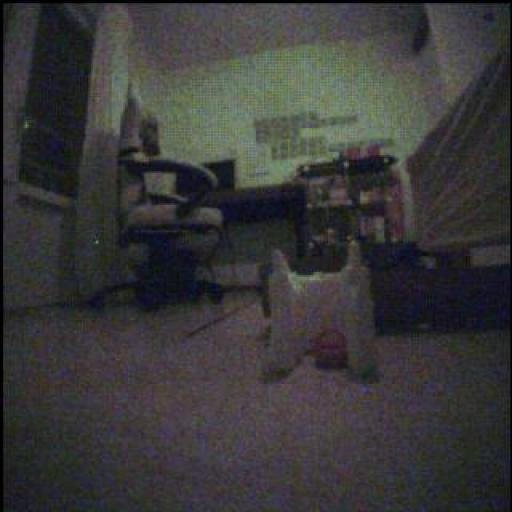basket: (315, 332, 350, 369)
